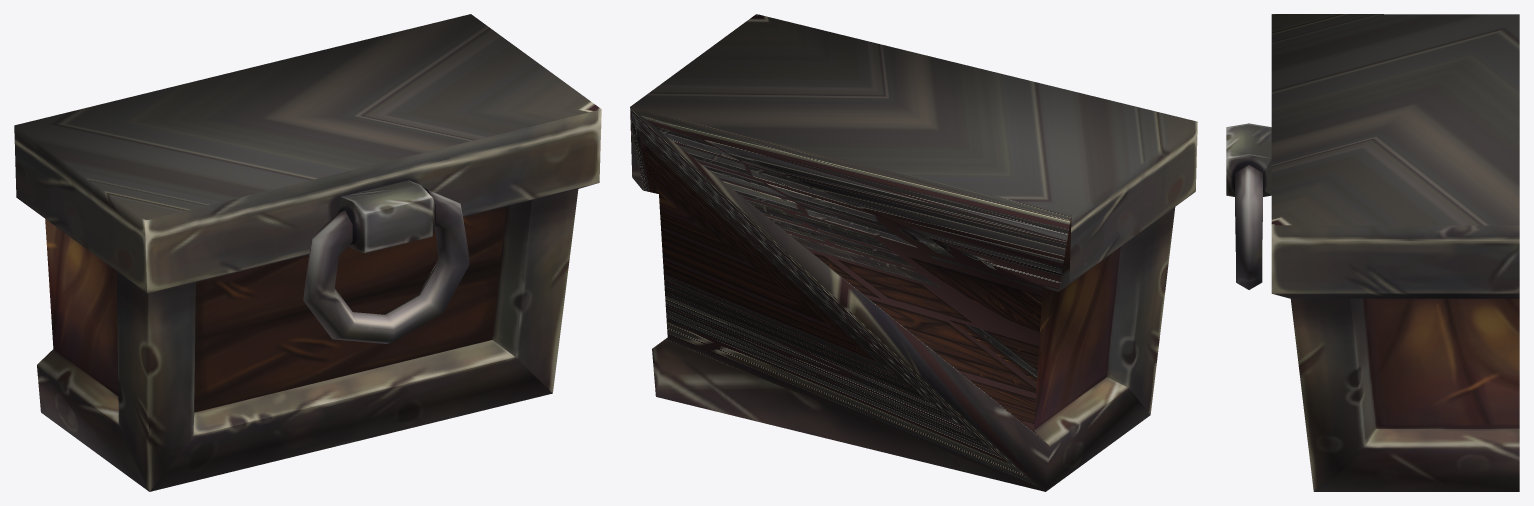
Rendered from chest_close4.fbx.
3 views of the same model, side by side, from view 1: azimuth 30°, elevation 25°; view 2: azimuth 150°, elevation 25°; view 3: azimuth 270°, elevation 25° (orthographic). The views are drawn at different scales.
Parts seen in each view (by area): view 1: chest_close.002; view 2: chest_close.002; view 3: chest_close.002.
Part boxes in pixels (x1,y1,x2,y2): chest_close.002: [14, 14, 601, 491]; chest_close.002: [630, 14, 1197, 491]; chest_close.002: [1226, 14, 1519, 491].
Bounding box in the file's own units: 42.62 × 26.21 × 25.
